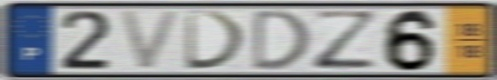2: (58, 9, 114, 73)
6: (380, 7, 443, 74)
D: (182, 8, 251, 72), (249, 8, 313, 74)
V: (116, 8, 186, 73)
Z: (310, 8, 382, 73)
